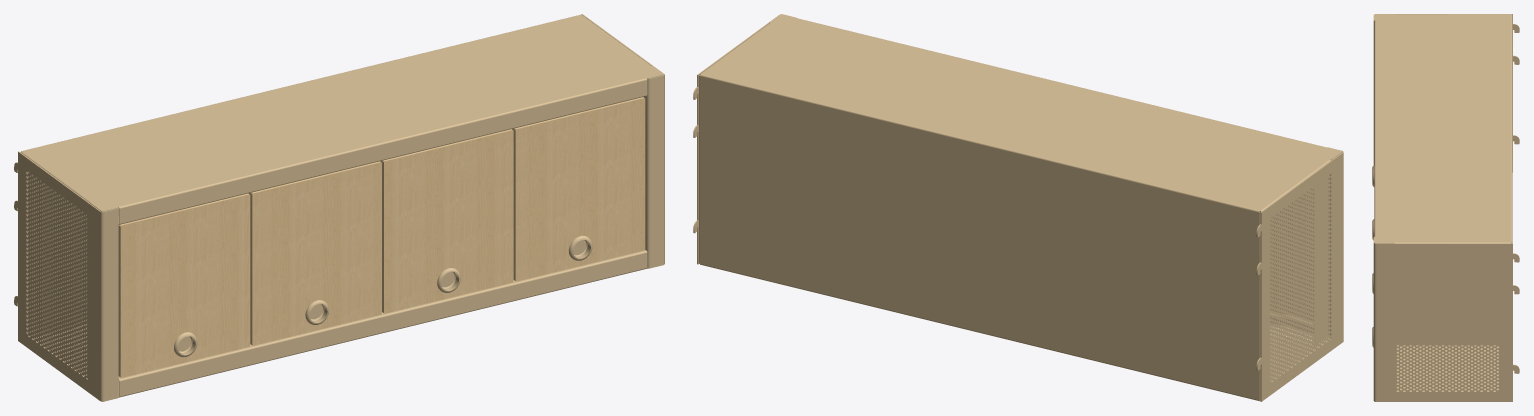
The model's file is Furniture_Shelving-Storage_Dalform_Cabinet-1000.fbx.
3 renders of one model, left to right at view 1: azimuth 30°, elevation 25°; view 2: azimuth 150°, elevation 25°; view 3: azimuth 270°, elevation 25°, orthographic. The views are drawn at different scales.
Parts seen in each view (by area): view 1: Mesh_29_c9e03b14_9909_4ae9_aaa6_ee7e31d18116, Mesh_11_c5910986_e003_4836_99f8_79b5a2425091_Ch1, Mesh_19_7be0b43c_99ca_456e_98b6_d0bf3977984d_Ch1, Mesh_13_bf6c93c4_71f2_4db1_8eec_8670e2f3fc20_Ch1, Mesh_15_fa42800e_db7b_4388_bc96_6acbe0e85e20_Ch1, Mesh_31_7778dea0_d220_42d4_9d5e_3988e65b7e24_Ch1, Mesh_33_7dba51c9_db6f_489c_9110_38bec6eb3002, Mesh_25_1867e948_b0e8_4588_9858_087b6d5fb2a3; view 2: Mesh_29_c9e03b14_9909_4ae9_aaa6_ee7e31d18116, Mesh_31_7778dea0_d220_42d4_9d5e_3988e65b7e24_Ch1, Mesh_33_7dba51c9_db6f_489c_9110_38bec6eb3002, Mesh_19_7be0b43c_99ca_456e_98b6_d0bf3977984d_Ch1, Mesh_25_1867e948_b0e8_4588_9858_087b6d5fb2a3; view 3: Mesh_29_c9e03b14_9909_4ae9_aaa6_ee7e31d18116, Mesh_23_cdd4d2cd_3388_47be_b329_fe35859e020f_Ch1, Mesh_25_1867e948_b0e8_4588_9858_087b6d5fb2a3, Mesh_1_bb97be68_799d_4ad6_98f0_4eb6582584a2, Mesh_33_7dba51c9_db6f_489c_9110_38bec6eb3002.
Boxes of the visible parts, left/top/right/bottom form: Mesh_29_c9e03b14_9909_4ae9_aaa6_ee7e31d18116: left=20, top=14, right=663, bottom=401; Mesh_11_c5910986_e003_4836_99f8_79b5a2425091_Ch1: left=512, top=97, right=645, bottom=281; Mesh_19_7be0b43c_99ca_456e_98b6_d0bf3977984d_Ch1: left=118, top=193, right=250, bottom=377; Mesh_13_bf6c93c4_71f2_4db1_8eec_8670e2f3fc20_Ch1: left=380, top=129, right=513, bottom=313; Mesh_15_fa42800e_db7b_4388_bc96_6acbe0e85e20_Ch1: left=248, top=161, right=381, bottom=345; Mesh_31_7778dea0_d220_42d4_9d5e_3988e65b7e24_Ch1: left=26, top=170, right=87, bottom=379; Mesh_33_7dba51c9_db6f_489c_9110_38bec6eb3002: left=14, top=151, right=118, bottom=401; Mesh_25_1867e948_b0e8_4588_9858_087b6d5fb2a3: left=581, top=14, right=664, bottom=268; Mesh_29_c9e03b14_9909_4ae9_aaa6_ee7e31d18116: left=699, top=14, right=1342, bottom=401; Mesh_31_7778dea0_d220_42d4_9d5e_3988e65b7e24_Ch1: left=1270, top=174, right=1331, bottom=383; Mesh_33_7dba51c9_db6f_489c_9110_38bec6eb3002: left=1256, top=151, right=1343, bottom=401; Mesh_19_7be0b43c_99ca_456e_98b6_d0bf3977984d_Ch1: left=1260, top=188, right=1313, bottom=320; Mesh_25_1867e948_b0e8_4588_9858_087b6d5fb2a3: left=693, top=14, right=779, bottom=264; Mesh_29_c9e03b14_9909_4ae9_aaa6_ee7e31d18116: left=1374, top=14, right=1512, bottom=391; Mesh_23_cdd4d2cd_3388_47be_b329_fe35859e020f_Ch1: left=1396, top=254, right=1498, bottom=391; Mesh_25_1867e948_b0e8_4588_9858_087b6d5fb2a3: left=1373, top=237, right=1519, bottom=401; Mesh_1_bb97be68_799d_4ad6_98f0_4eb6582584a2: left=1396, top=254, right=1498, bottom=345; Mesh_33_7dba51c9_db6f_489c_9110_38bec6eb3002: left=1373, top=14, right=1519, bottom=172.
Bounding box in the file's own units: 992 × 268 × 320.
Materials: 3 (2 with a texture image).
